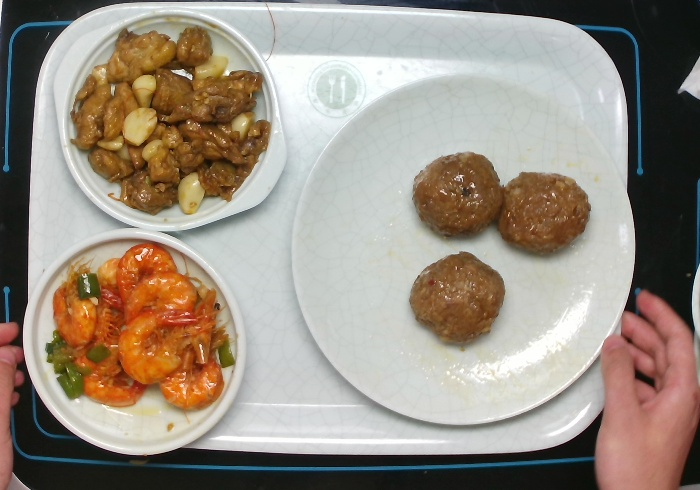JYsf-Da_Yuan_Pan: (287, 67, 639, 430)
JYsf-Shuang_Er_Pan: (48, 6, 290, 234)
JYsf-Xiao_Yuan_Pan: (19, 225, 250, 459)
